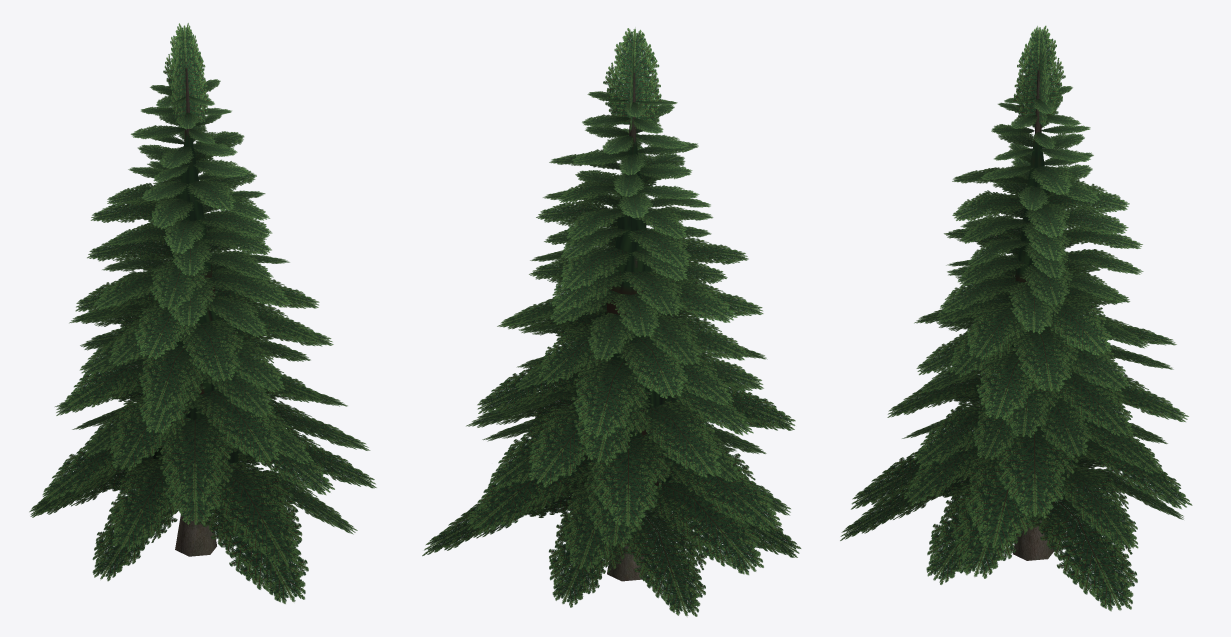
File: pine3.glb
3 renders of one model, left to right at view 1: azimuth 30°, elevation 25°; view 2: azimuth 150°, elevation 25°; view 3: azimuth 270°, elevation 25°, orthographic. The views are drawn at different scales.
Visible parts, largest first — view 1: Tree; view 2: Tree; view 3: Tree.
Part boxes in pixels (<box>): Tree: <box>29,23,376,603</box>; Tree: <box>422,28,801,616</box>; Tree: <box>840,25,1192,611</box>.
Size of the model in its own units: 9.04 by 13.4 by 8.8.
Materials: 2 (2 with a texture image).
